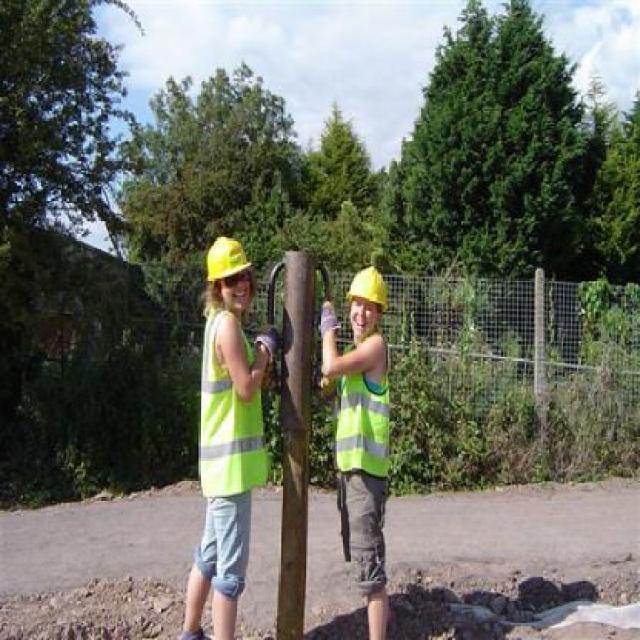Gloves: (313, 299, 345, 337), (249, 328, 281, 360)
Vest: (197, 312, 273, 501), (335, 335, 393, 479)
helmet: (205, 232, 257, 282), (345, 262, 391, 309)
person: (185, 227, 277, 640), (324, 257, 396, 640)
